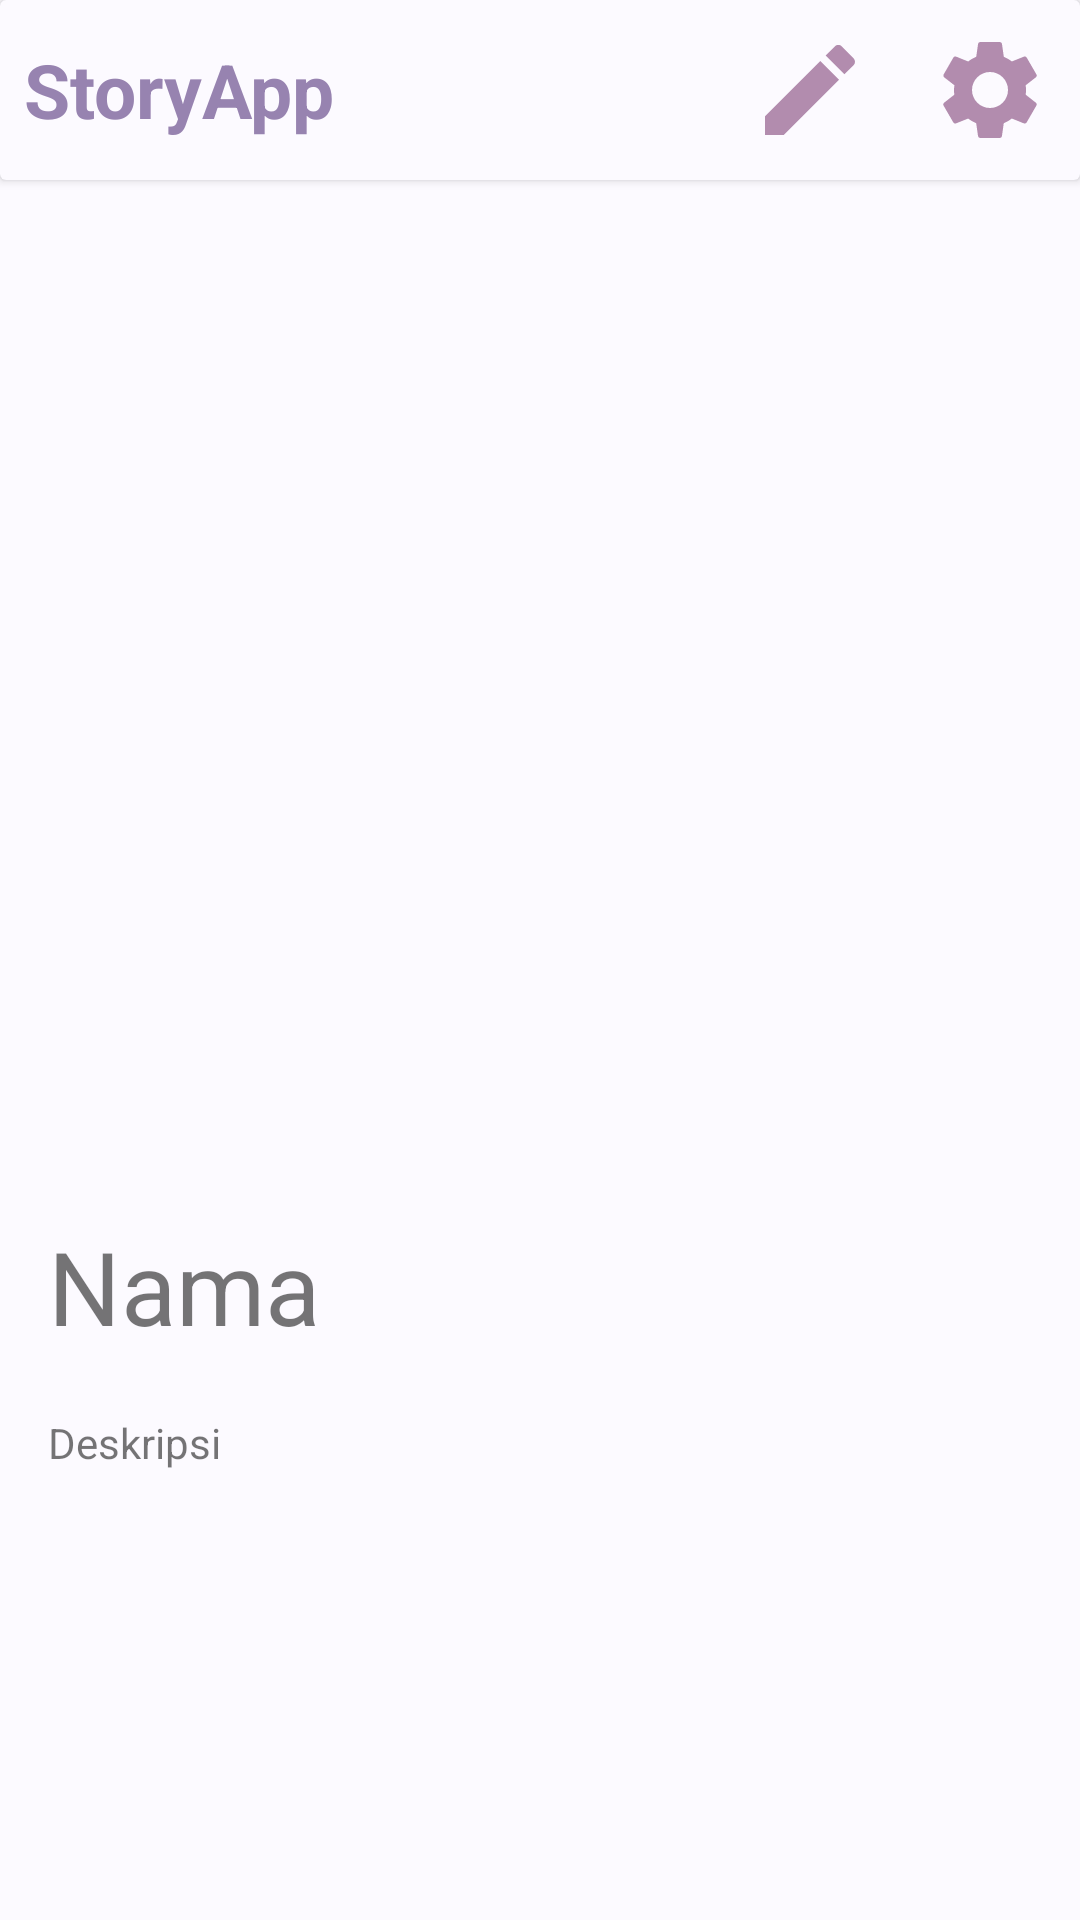

Named icons in this screenshot (1080×1920) and their bounding boxes, bbox=[x1, y1, x2, y2]:
create: bbox=[765, 45, 855, 135]
settings: bbox=[943, 42, 1037, 138]
